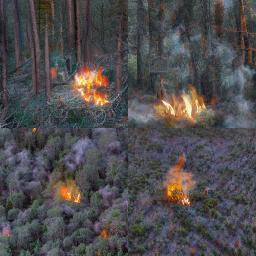Small fire: (157, 89, 215, 122), (70, 62, 110, 103), (162, 166, 199, 198), (54, 180, 89, 204)
